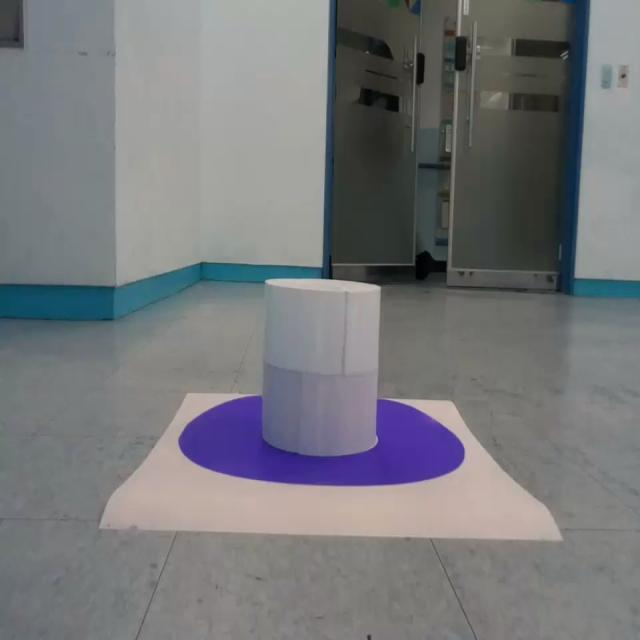cylinder: (260, 277, 381, 457)
